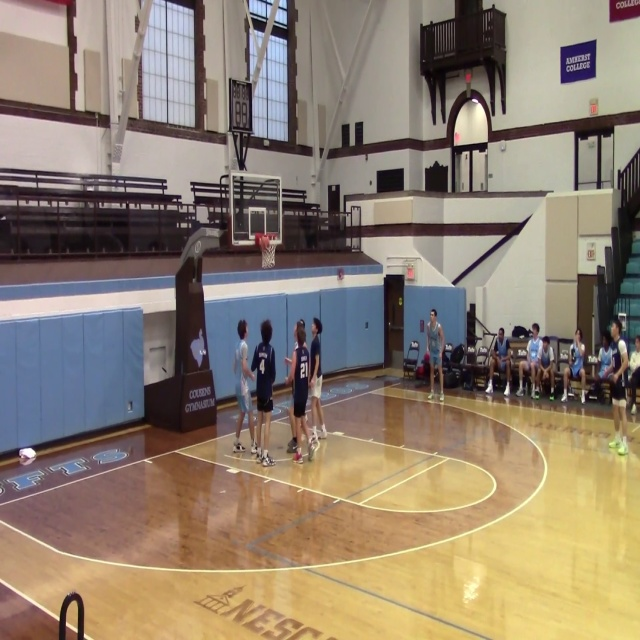Basketball: (18, 447, 36, 465)
